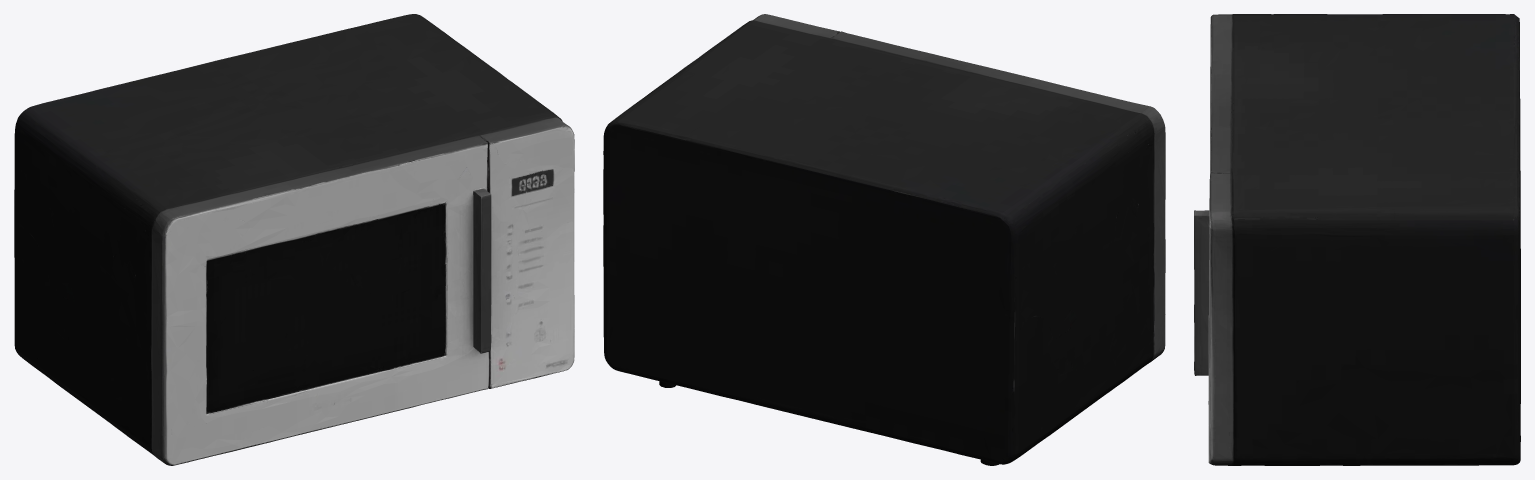
Rendered from d40d2e32-fef3-4cdc-b8c9-c6dfc4f18095.glb.
3 renders of one model, left to right at view 1: azimuth 30°, elevation 25°; view 2: azimuth 150°, elevation 25°; view 3: azimuth 270°, elevation 25°, orthographic. The views are drawn at different scales.
Parts seen in each view (by area): view 1: world; view 2: world; view 3: world.
Boxes of the visible parts, x1,y1,x2,y2 form: world: (14,14,574,465); world: (603,14,1165,465); world: (1194,14,1520,465).
Size of the model in its own units: 0.9998 by 0.6061 by 0.6662.
1 material, 1 textured.
